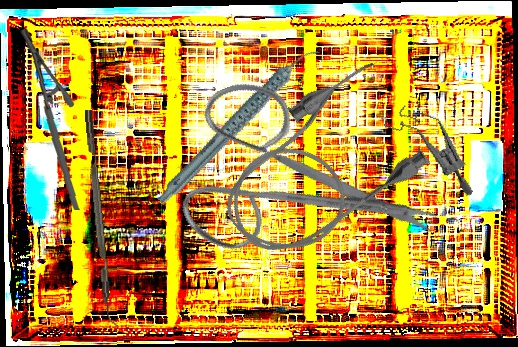Cannula: (197, 50, 443, 281)
Chopper: (84, 108, 122, 329)
Handpiece: (133, 44, 345, 207)
Iris Scissors: (145, 31, 447, 317)
Needle Holder: (9, 27, 90, 211)
Speculum: (366, 98, 493, 198)
